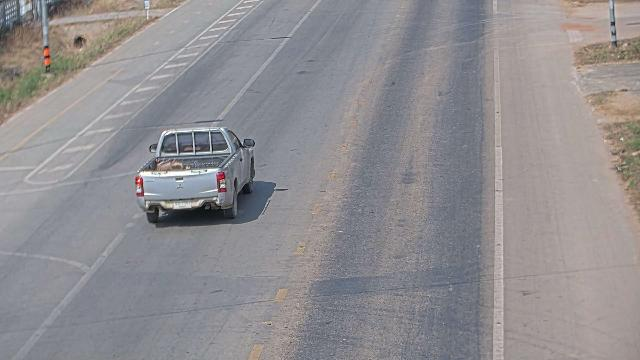pickup-truck: (134, 125, 256, 223)
